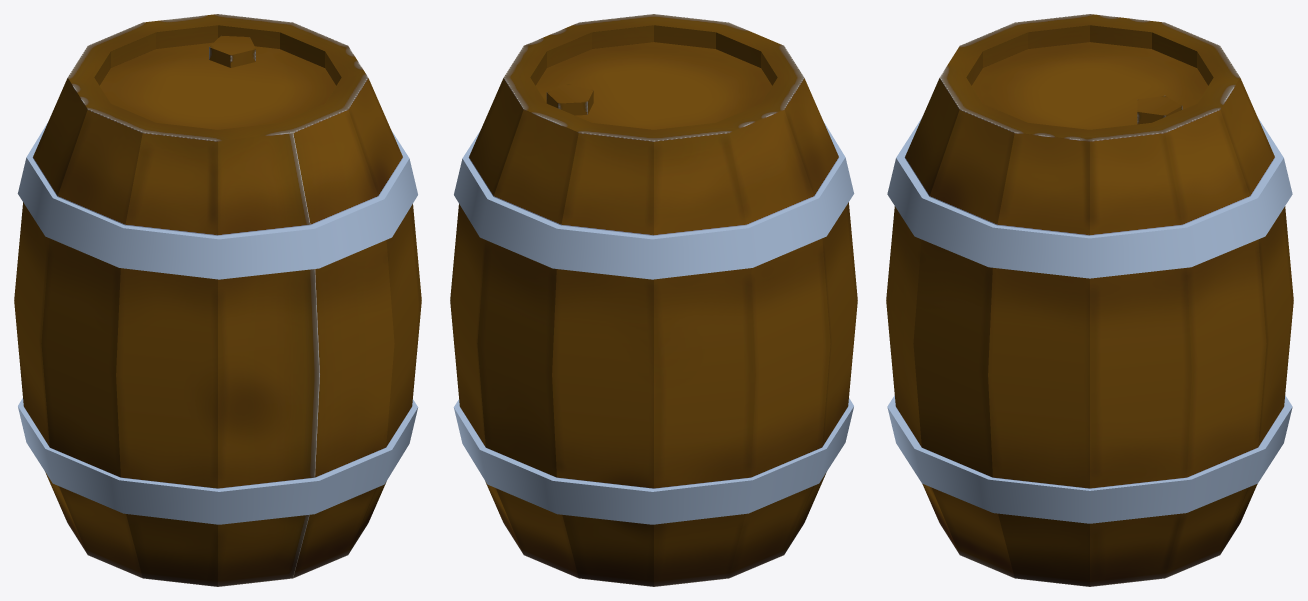
File: Barrel_LOD.fbx
3 views of the same model, side by side, from view 1: azimuth 30°, elevation 25°; view 2: azimuth 150°, elevation 25°; view 3: azimuth 270°, elevation 25° (orthographic).
Visible parts, largest first — view 1: Barrel_LOD0; view 2: Barrel_LOD0; view 3: Barrel_LOD0.
Boxes of the visible parts, <box> form: Barrel_LOD0: <box>14,14,421,586</box>; Barrel_LOD0: <box>450,14,857,586</box>; Barrel_LOD0: <box>886,14,1293,586</box>.
Size of what is drawn, in the model's own units: 74.58 by 90 by 74.58.
